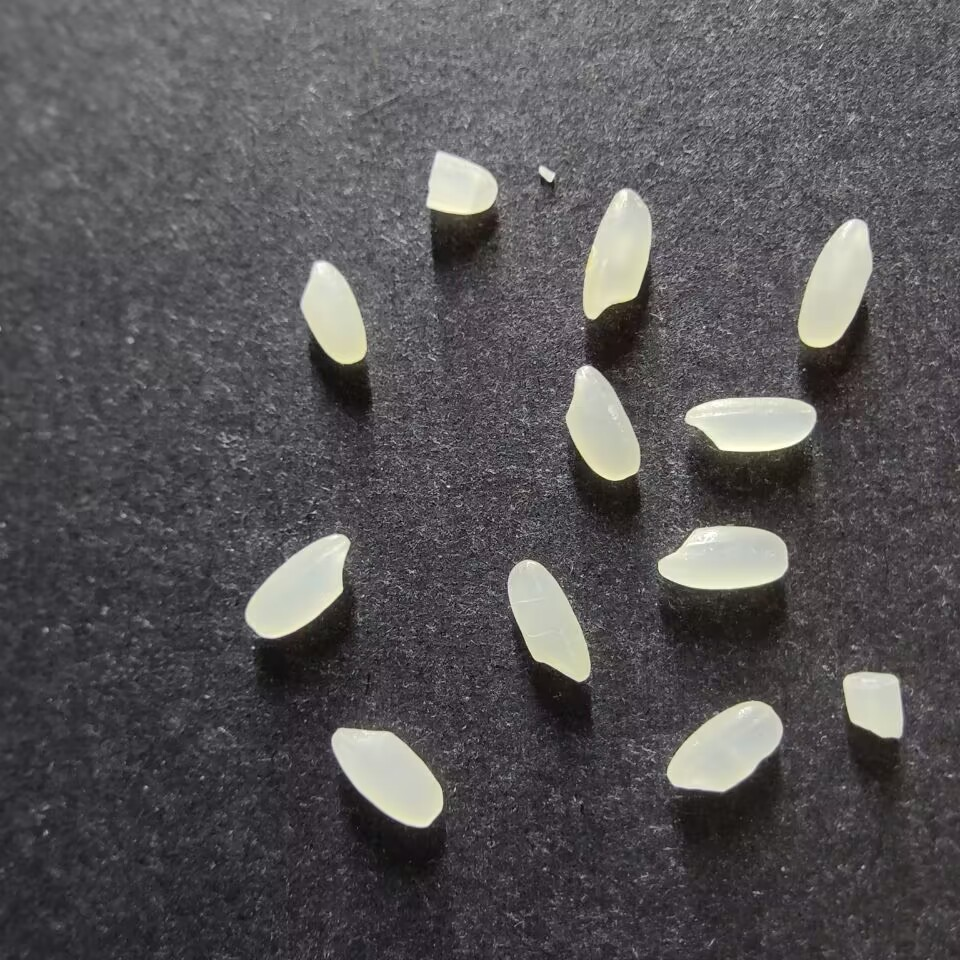broken: (422, 147, 499, 216), (837, 669, 907, 743)
rice: (329, 723, 446, 830), (664, 698, 786, 795), (242, 532, 351, 640), (505, 557, 594, 685), (795, 216, 877, 351), (580, 185, 654, 323), (562, 363, 643, 483), (655, 524, 790, 591), (682, 394, 818, 453), (298, 257, 367, 365)
